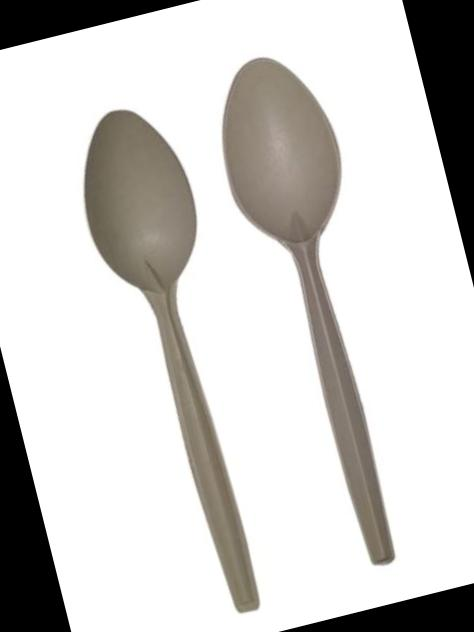Plastik: (202, 46, 438, 574), (85, 111, 258, 610), (223, 58, 393, 563)
